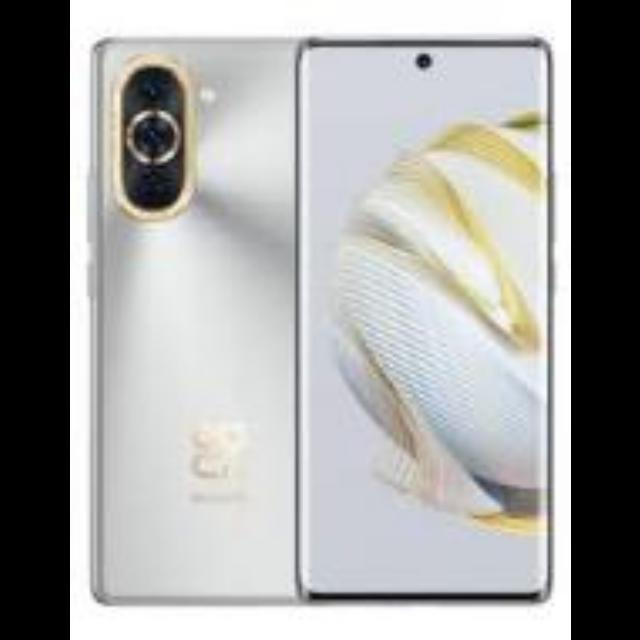phone: (292, 35, 564, 605), (87, 44, 305, 597)
